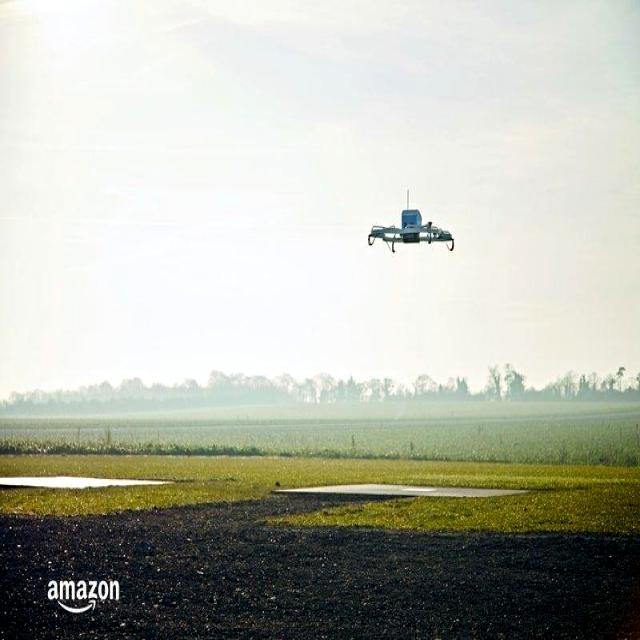drone: (366, 197, 456, 254)
